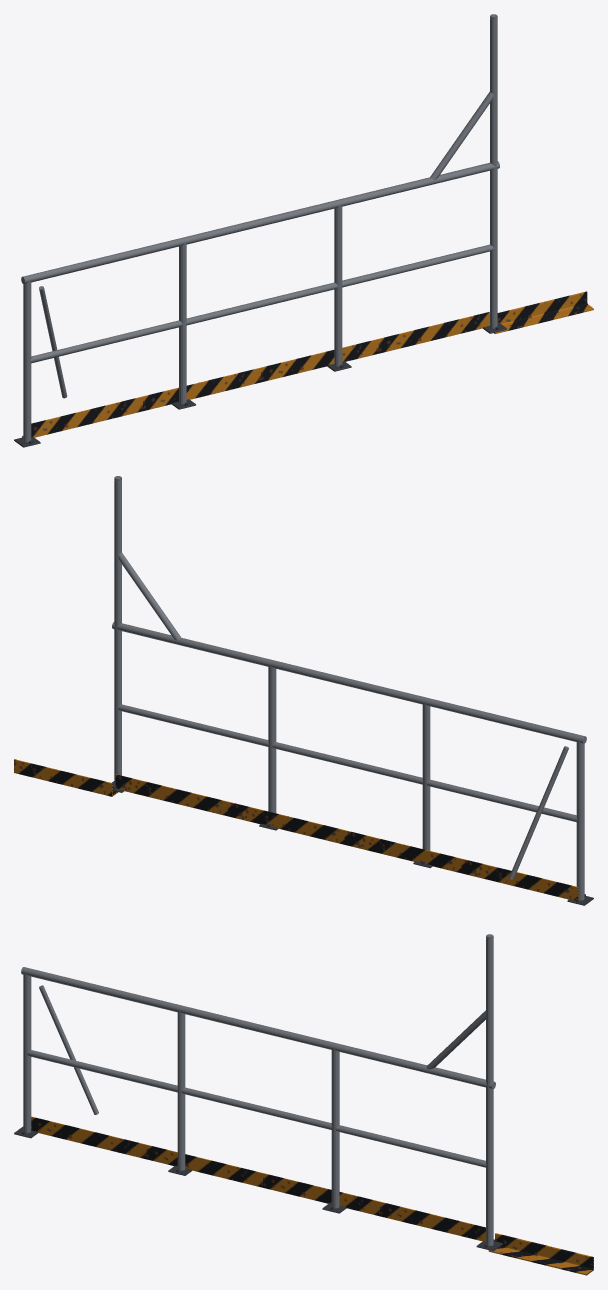
File: foundry_deck_rail_v2.glb
3 views of the same model, one above another, from view 1: azimuth 30°, elevation 25°; view 2: azimuth 150°, elevation 25°; view 3: azimuth 330°, elevation 25° (orthographic).
Visible parts, largest first — view 1: rail_toe, rail_posts, rail_rail_top, rail_rail_mid, rail_nose, rail_stanchion, rail_stanchion_tie, rail_brace_n; view 2: rail_toe, rail_posts, rail_rail_top, rail_rail_mid, rail_stanchion, rail_nose, rail_brace_n, rail_stanchion_tie; view 3: rail_toe, rail_posts, rail_rail_top, rail_rail_mid, rail_nose, rail_stanchion, rail_brace_n, rail_stanchion_tie, rail_bases.
Boxes of the visible parts, bbox=[...] form: rail_toe: bbox=[31, 311, 489, 437]; rail_posts: bbox=[23, 167, 496, 442]; rail_rail_top: bbox=[21, 161, 499, 284]; rail_rail_mid: bbox=[30, 244, 493, 363]; rail_nose: bbox=[494, 291, 593, 333]; rail_stanchion: bbox=[490, 18, 497, 327]; rail_stanchion_tie: bbox=[430, 91, 493, 179]; rail_brace_n: bbox=[39, 286, 67, 398]; rail_toe: bbox=[115, 774, 578, 900]; rail_posts: bbox=[114, 628, 584, 900]; rail_rail_top: bbox=[112, 622, 586, 743]; rail_rail_mid: bbox=[118, 704, 577, 822]; rail_stanchion: bbox=[114, 480, 121, 785]; rail_nose: bbox=[14, 759, 117, 796]; rail_brace_n: bbox=[509, 746, 568, 879]; rail_stanchion_tie: bbox=[118, 553, 180, 640]; rail_toe: bbox=[31, 1116, 485, 1241]; rail_posts: bbox=[23, 973, 493, 1245]; rail_rail_top: bbox=[21, 967, 495, 1089]; rail_rail_mid: bbox=[27, 1050, 486, 1167]; rail_nose: bbox=[488, 1233, 593, 1275]; rail_stanchion: bbox=[486, 938, 493, 1243]; rail_brace_n: bbox=[39, 985, 98, 1114]; rail_stanchion_tie: bbox=[426, 1010, 486, 1069]; rail_bases: bbox=[14, 1126, 502, 1251].
Size of the model in its own units: 4.06 by 2.15 by 0.2756.
3 materials, 1 textured.
